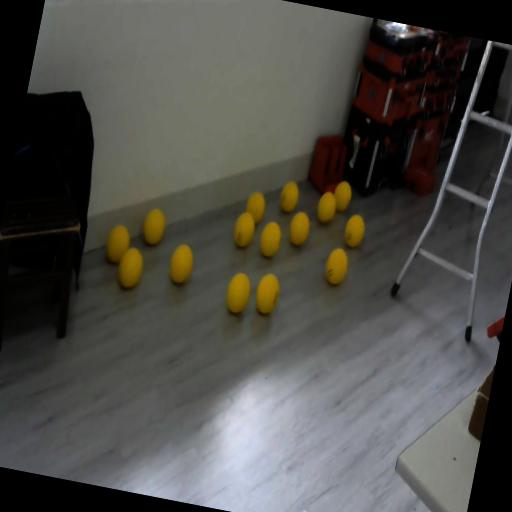FUEL: (114, 244, 147, 292), (222, 270, 254, 318), (165, 240, 197, 286), (252, 271, 284, 317), (102, 222, 132, 266), (256, 218, 284, 260), (140, 206, 168, 248), (322, 246, 350, 288), (286, 209, 314, 249), (342, 212, 368, 250), (314, 189, 340, 226), (243, 190, 268, 226), (277, 179, 301, 214), (330, 179, 354, 213)
